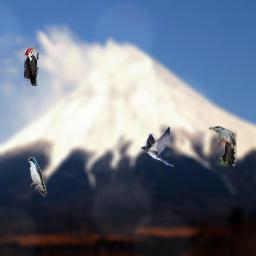Cuckoo: (209, 126, 237, 166)
Swallow: (141, 127, 174, 167), (28, 157, 47, 197)
Woodpecker: (24, 46, 39, 86)
